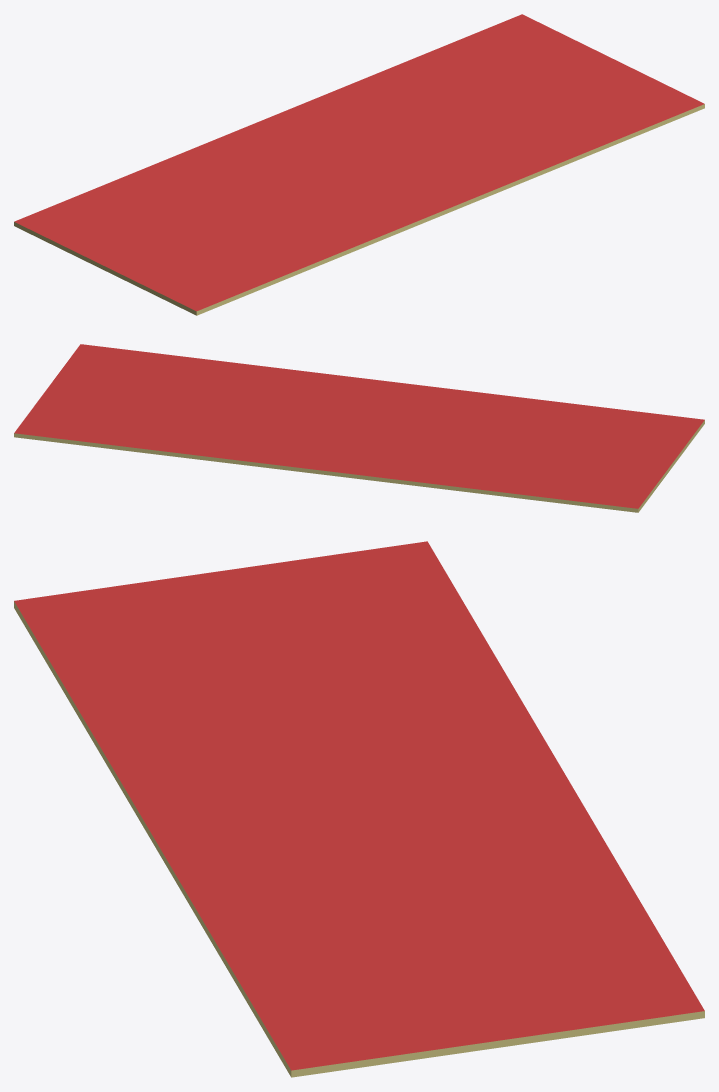
3 views of the same model, one above another, from view 1: azimuth 30°, elevation 25°; view 2: azimuth 150°, elevation 25°; view 3: azimuth 270°, elevation 25° (orthographic). The views are drawn at different scales.
Bounding box in the file's own units: 15.57 × 8.86 × 0.325.
